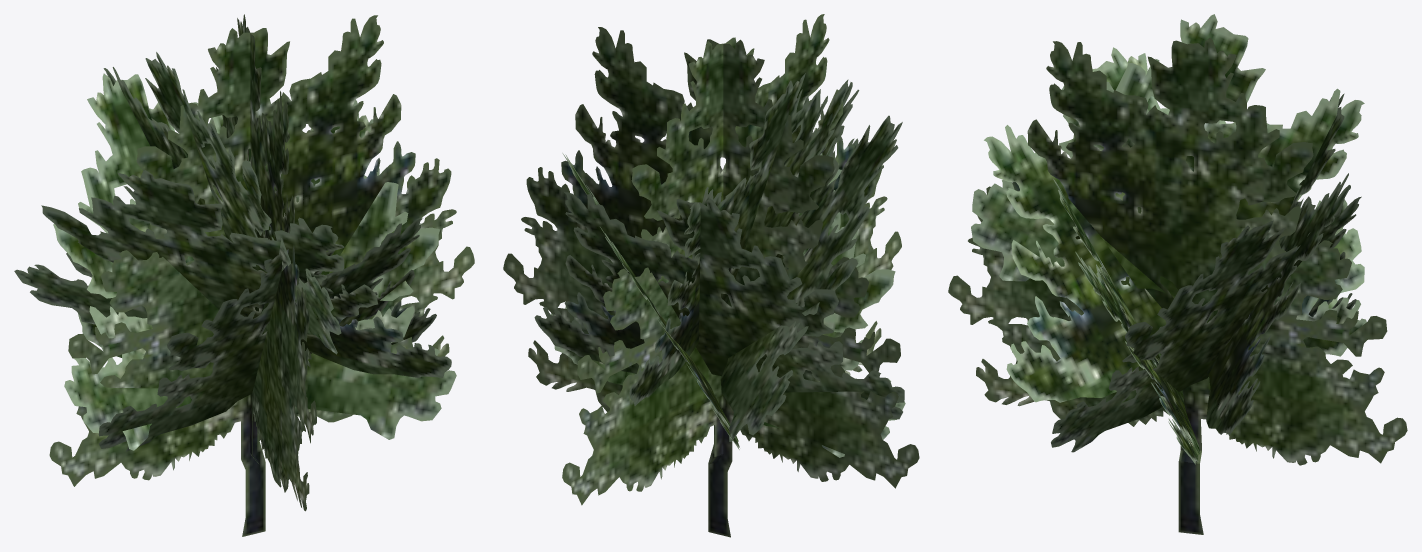
The model's file is simple-texture-tree-2.glb.
3 renders of one model, left to right at view 1: azimuth 30°, elevation 25°; view 2: azimuth 150°, elevation 25°; view 3: azimuth 270°, elevation 25°, orthographic. The views are drawn at different scales.
Parts seen in each view (by area): view 1: コンポーネント, a1.002, a1.001, a1.004, a1, a1.003; view 2: コンポーネント, a1, a1.002, a1.003, a1.001, a1.004; view 3: コンポーネント, a1.002, a1.004, a1.003, a1, a1.001.
Boxes of the visible parts, x1,y1,x2,y2 form: コンポーネント: (49, 14, 474, 536); a1.002: (14, 170, 451, 378); a1.001: (98, 218, 436, 451); a1.004: (78, 100, 456, 439); a1: (53, 73, 251, 450); a1.003: (103, 52, 341, 354); コンポーネント: (503, 14, 919, 537); a1: (534, 192, 904, 419); a1.002: (720, 82, 902, 441); a1.003: (629, 73, 858, 405); a1.001: (551, 153, 905, 457); a1.004: (562, 153, 739, 449); コンポーネント: (948, 37, 1407, 534); a1.002: (984, 47, 1364, 402); a1.004: (1051, 196, 1361, 452); a1.003: (971, 14, 1366, 356); a1: (1206, 93, 1350, 435); a1.001: (1053, 179, 1200, 464).
Size of the model in its own units: 7.86 by 9.04 by 7.59.
2 materials, 2 textured.
